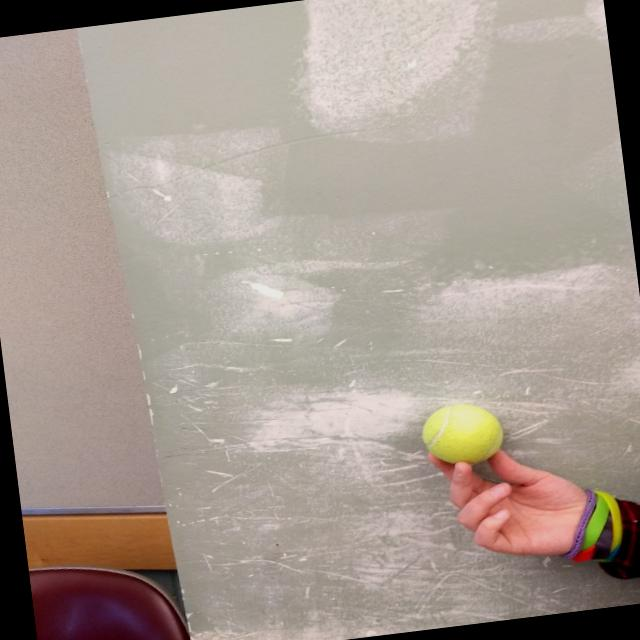Tennis Ball: (419, 398, 506, 469)
